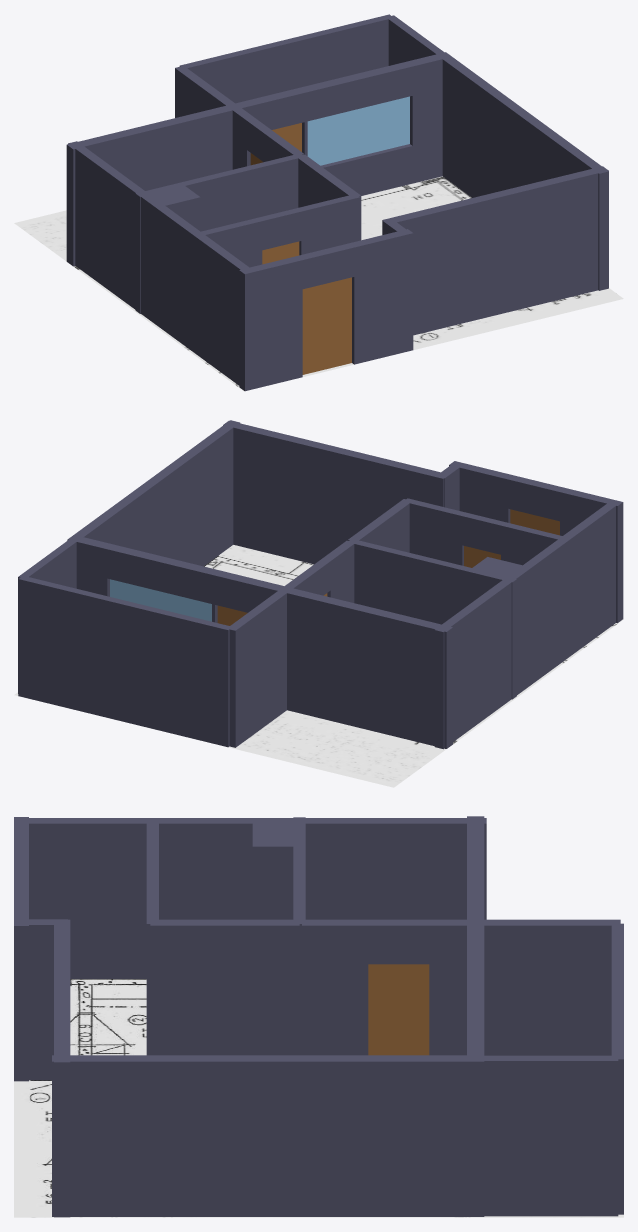
3 renders of one model, top to bottom at view 1: azimuth 30°, elevation 25°; view 2: azimuth 150°, elevation 25°; view 3: azimuth 270°, elevation 25°, orthographic. The views are drawn at different scales.
Visible parts, largest first — view 1: wall, FloorPlan, Door, Window; view 2: wall, FloorPlan, Window, Door; view 3: wall, FloorPlan, Door.
Boxes of the visible parts, x1,y1,x2,y2 form: wall: [66, 14, 608, 391]; FloorPlan: [14, 176, 623, 391]; Door: [250, 123, 351, 374]; Window: [307, 96, 409, 165]; wall: [18, 420, 623, 749]; FloorPlan: [14, 545, 623, 787]; Window: [110, 579, 211, 621]; Door: [217, 509, 559, 625]; wall: [14, 816, 623, 1217]; FloorPlan: [14, 979, 623, 1217]; Door: [368, 964, 429, 1055].
Size of the model in its own units: 9.51 by 2.8 by 9.97.
Materials: 4 (1 with a texture image).
